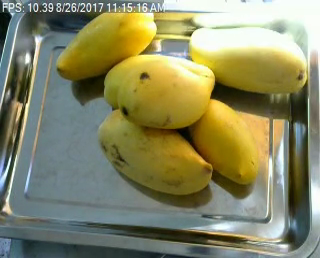Mango: (101, 108, 211, 195), (55, 3, 156, 80), (189, 28, 305, 91), (182, 93, 258, 182), (117, 60, 214, 128), (104, 55, 215, 107)
